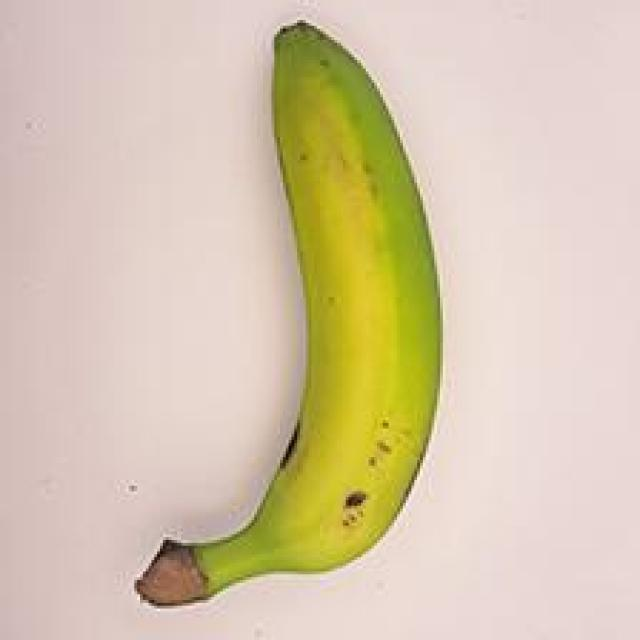Unripe: (118, 6, 459, 626)
